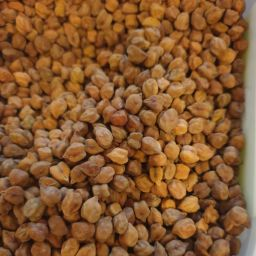Black Chickpeas: (2, 5, 251, 256)
